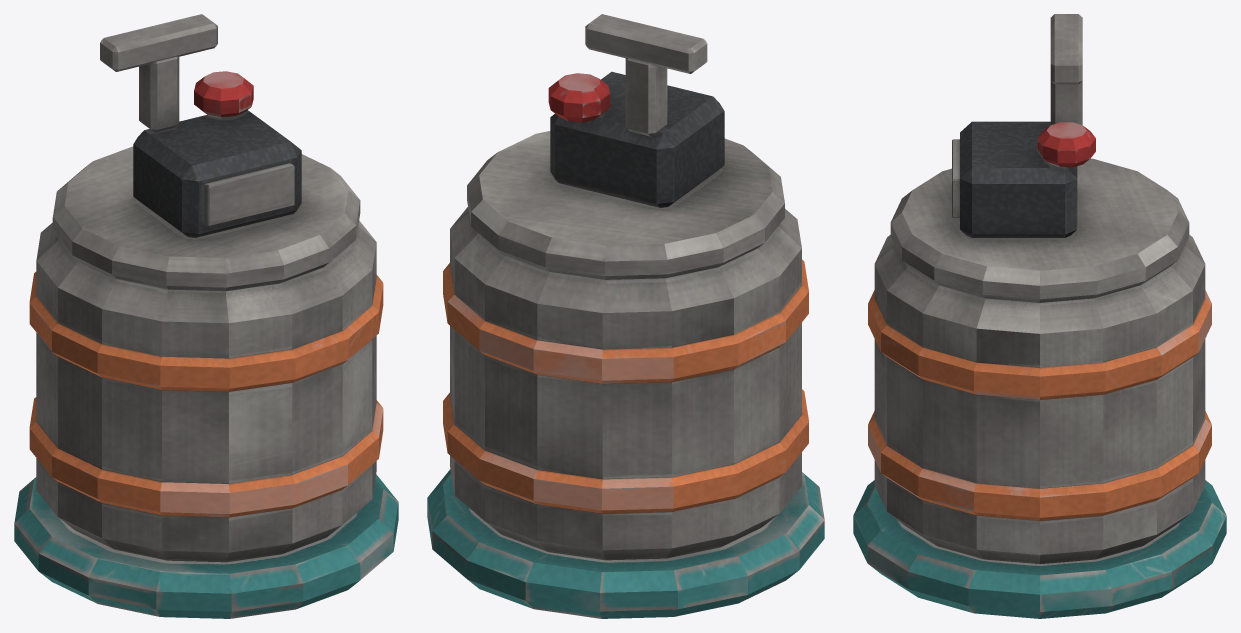
The model's file is sticky.glb.
3 renders of one model, left to right at view 1: azimuth 30°, elevation 25°; view 2: azimuth 150°, elevation 25°; view 3: azimuth 270°, elevation 25°, orthographic. The views are drawn at different scales.
Parts seen in each view (by area): view 1: sticky; view 2: sticky; view 3: sticky.
Part boxes in pixels (<box>): sticky: <box>14,14,398,618</box>; sticky: <box>427,14,824,618</box>; sticky: <box>853,14,1226,618</box>.
Size of the model in its own units: 0.14 by 0.204 by 0.14.
Materials: 1 (1 with a texture image).
